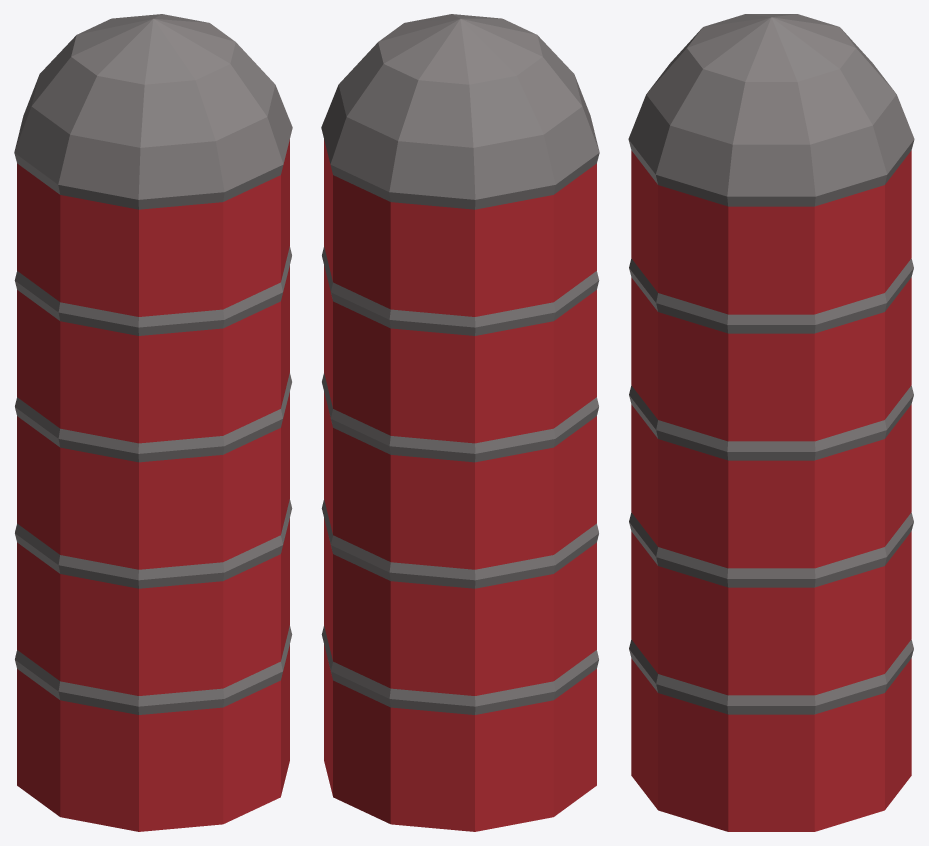
Rendered from farm-farm-silo.glb.
3 renders of one model, left to right at view 1: azimuth 30°, elevation 25°; view 2: azimuth 150°, elevation 25°; view 3: azimuth 270°, elevation 25°, orthographic.
Visible parts, largest first — view 1: farm-silo; view 2: farm-silo; view 3: farm-silo.
Part boxes in pixels (x1,y1,x2,y2): farm-silo: (14,14,292,831); farm-silo: (321,14,599,831); farm-silo: (628,14,914,831).
Size of the model in its own units: 3.88 by 11.94 by 4.08.
